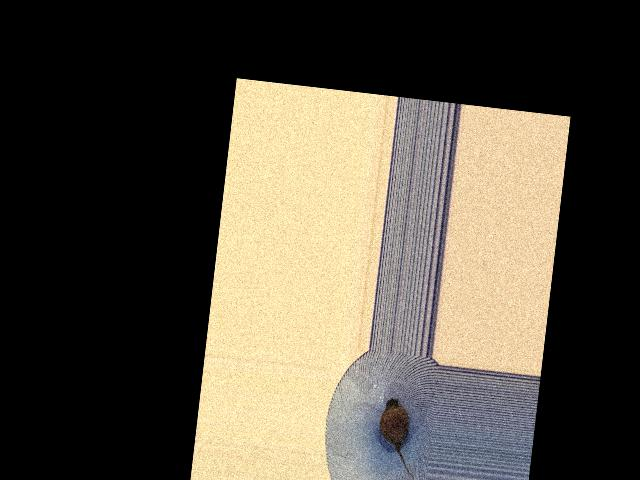beet: (374, 396, 422, 476)
